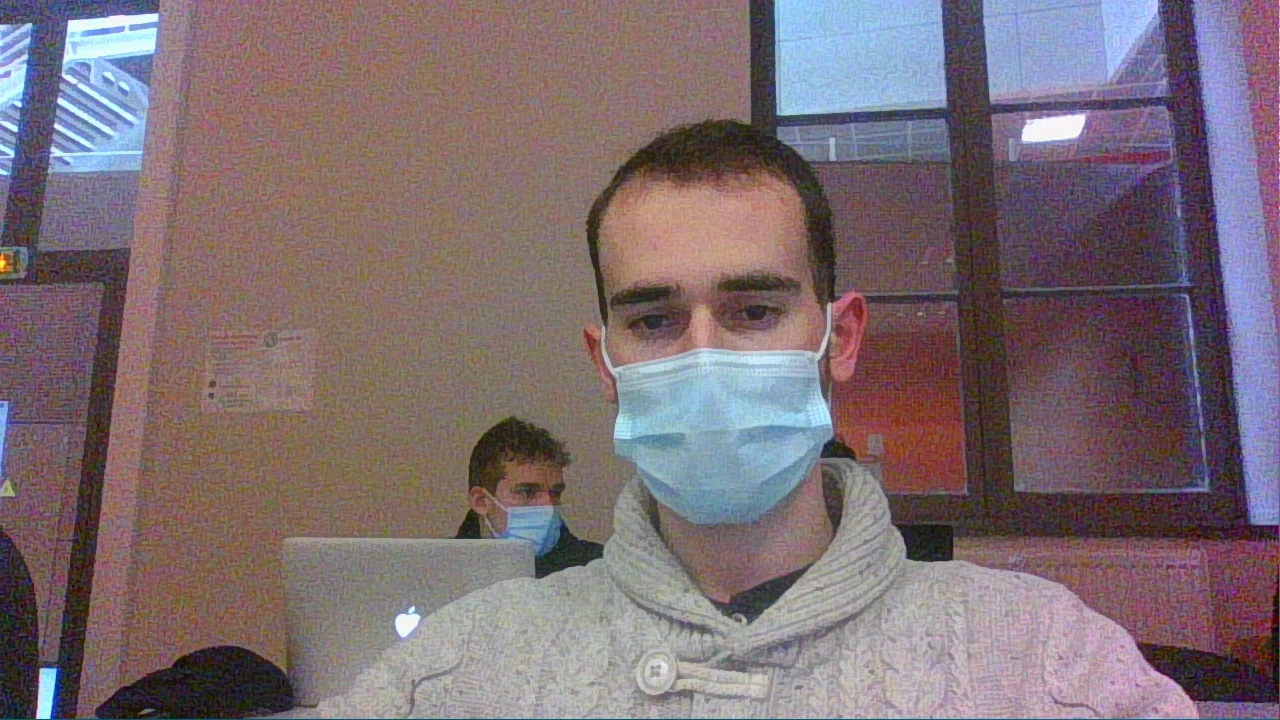mask: (581, 116, 873, 534), (466, 417, 564, 555)
